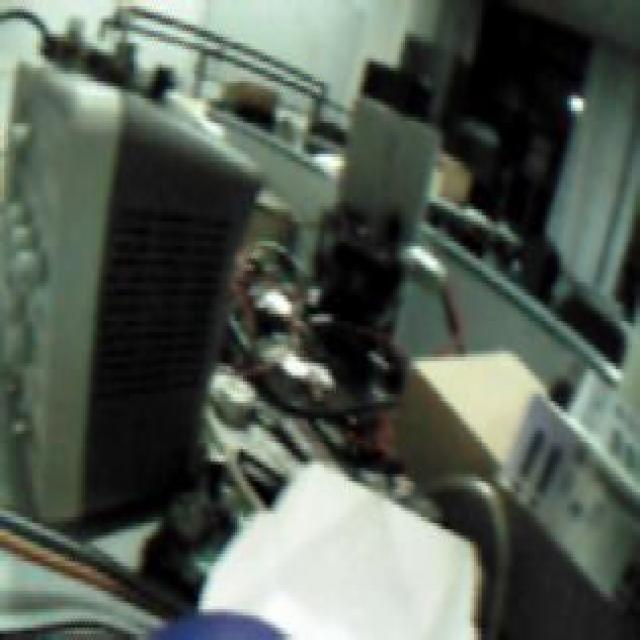BallPurple: (143, 609, 287, 640)
